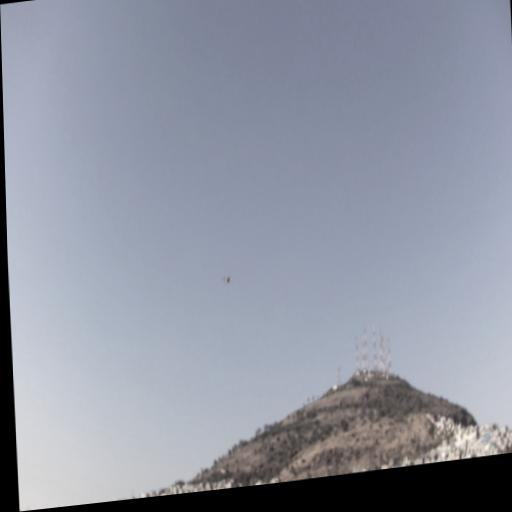drones: (222, 273, 234, 286)
